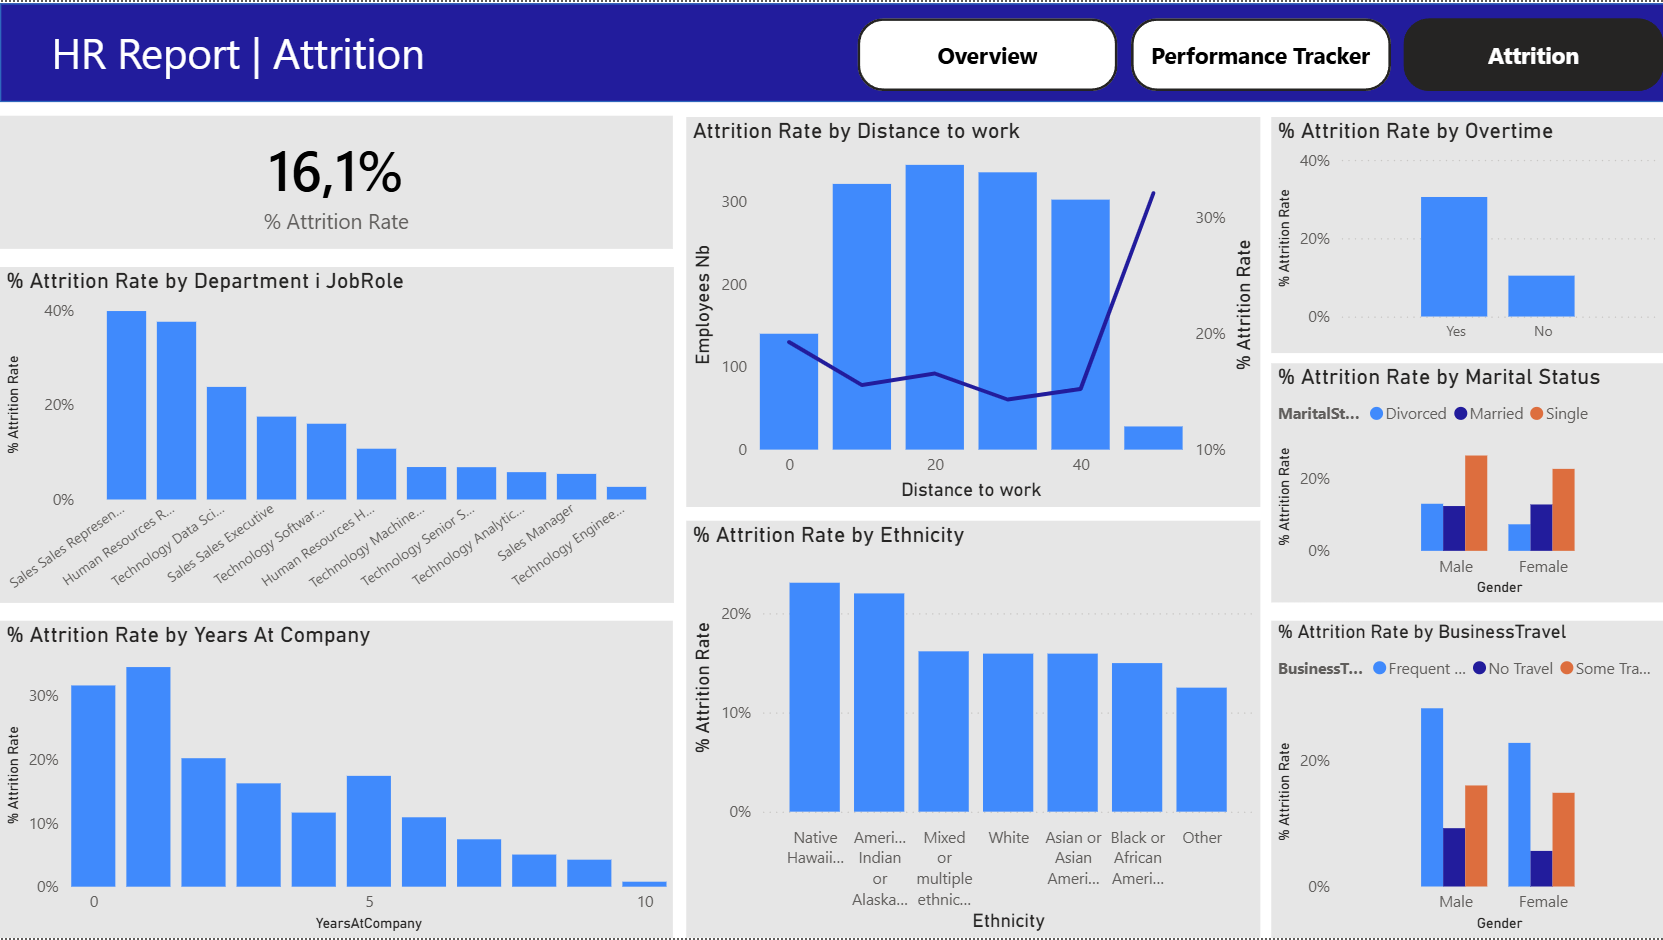

The dashboard page shown, as its layout file describes it:
{"tool":"powerbi","page":{"name":"Attrition","canvas":[1280,720],"ordinal":2},"visuals":[{"type":"shape","box":[0,1.4,1280.3,76.1],"z":0},{"type":"textbox","box":[0,12.7,366.2,63.4],"z":1000},{"type":"pageNavigator","box":[660.2,0.8,619.8,77],"z":2000},{"type":"card","fields":{"Values":["_mesures.% Attrition Rate"]},"box":[0,87.8,517.9,102.4],"z":3000},{"type":"clusteredColumnChart","fields":{"Y":["_mesures.% Attrition Rate"],"Category":["Employee.Department","Employee.JobRole"]},"box":[0,209.8,517.9,252],"z":4000},{"type":"lineClusteredColumnComboChart","title":"Attrition Rate by Distance to work","fields":{"Category":["Employee.Distance_round"],"Y2":["_mesures.% Attrition Rate"],"Y":["CountNonNull(Employee.EmployeeID)"]},"box":[528.5,87.8,441.5,248],"z":5000},{"type":"lineClusteredColumnComboChart","fields":{"Series":["Employee.MaritalStatus"],"Y":["_mesures.% Attrition Rate"],"Category":["Employee.Gender"]},"box":[978.2,352.7,301.8,184.5],"z":6000},{"type":"clusteredColumnChart","fields":{"Category":["Employee.YearsAtCompany"],"Y":["_mesures.% Attrition Rate"]},"box":[0,476.4,517.9,243.9],"z":7000},{"type":"clusteredColumnChart","title":"% Attrition Rate by Overtime","fields":{"Y":["_mesures.% Attrition Rate"],"Category":["Employee.OverTime"]},"box":[978.2,86.4,295.5,247.3],"z":8000},{"type":"clusteredColumnChart","fields":{"Y":["_mesures.% Attrition Rate"],"Series":["Employee.BusinessTravel"],"Category":["Employee.Gender"]},"box":[978.2,545.5,301.8,174.5],"z":9000},{"type":"clusteredColumnChart","fields":{"Category":["Employee.Ethnicity"],"Y":["_mesures.% Attrition Rate"]},"box":[528.2,352.7,441.8,367.3],"z":9001}]}

Visuals, with their boxes in screenshot pixels (x1, y1, x2, y2), scaled from the page's 1280x720 canvas onto the 1663x940 screenshot:
shape: BBox(0, 2, 1662, 101)
textbox: BBox(0, 17, 476, 99)
pageNavigator: BBox(858, 1, 1662, 102)
card - _mesures.% Attrition Rate: BBox(0, 115, 673, 248)
clusteredColumnChart - _mesures.% Attrition Rate x Employee.Department: BBox(0, 274, 673, 603)
"Attrition Rate by Distance to work" lineClusteredColumnComboChart: BBox(687, 115, 1260, 438)
lineClusteredColumnComboChart - Employee.MaritalStatus x _mesures.% Attrition Rate: BBox(1271, 460, 1662, 701)
clusteredColumnChart - Employee.YearsAtCompany x _mesures.% Attrition Rate: BBox(0, 622, 673, 939)
"% Attrition Rate by Overtime" clusteredColumnChart: BBox(1271, 113, 1655, 436)
clusteredColumnChart - _mesures.% Attrition Rate x Employee.BusinessTravel: BBox(1271, 712, 1662, 939)
clusteredColumnChart - Employee.Ethnicity x _mesures.% Attrition Rate: BBox(686, 460, 1260, 939)
